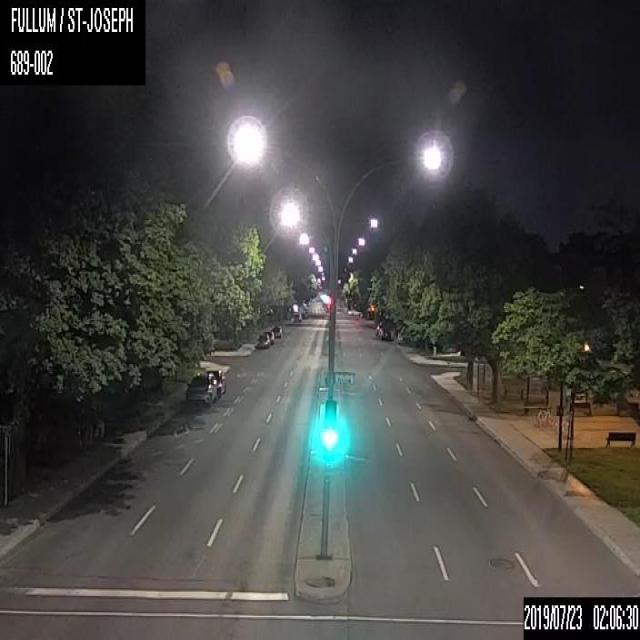vehicle: (184, 372, 216, 405), (203, 367, 226, 397), (254, 334, 269, 349), (261, 330, 274, 344), (378, 328, 391, 340), (272, 326, 282, 338)
